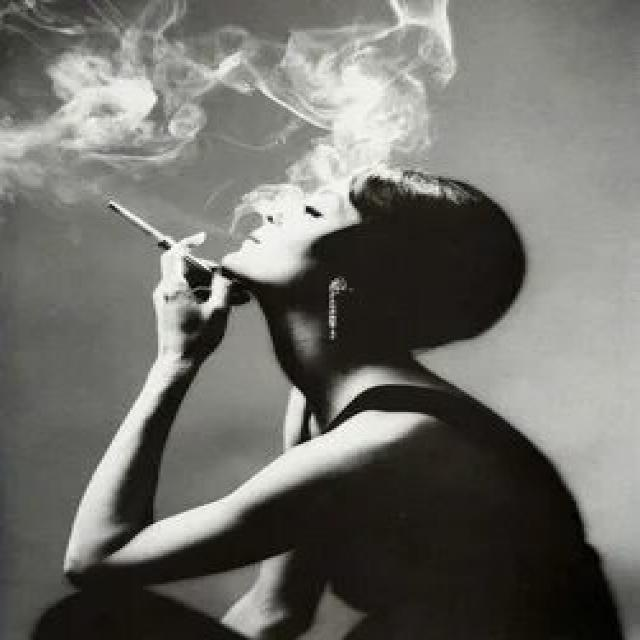cigarette: (99, 196, 222, 284)
